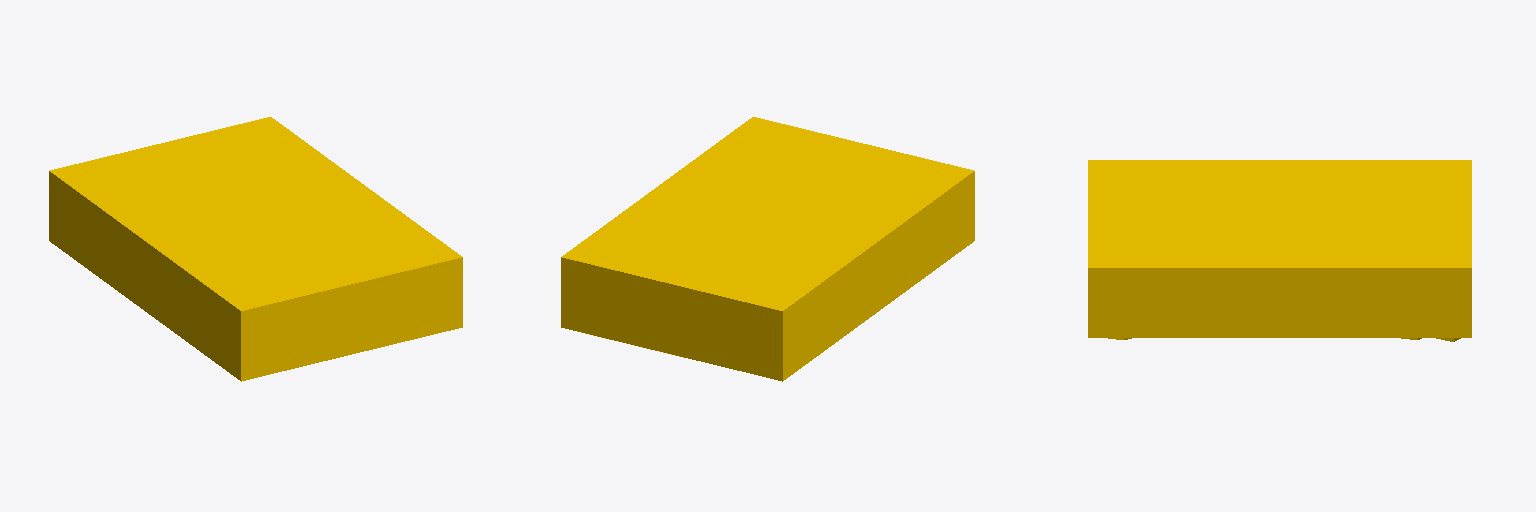
Rendered from mesa_centro_aceite.obj.
3 views of the same model, side by side, from view 1: azimuth 30°, elevation 25°; view 2: azimuth 150°, elevation 25°; view 3: azimuth 270°, elevation 25° (orthographic).
Parts seen in each view (by area): view 1: Cubo.030_Cubo.031; view 2: Cubo.030_Cubo.031; view 3: Cubo.030_Cubo.031.
Boxes of the visible parts, <box> form: Cubo.030_Cubo.031: <box>49,117,462,381</box>; Cubo.030_Cubo.031: <box>561,117,974,381</box>; Cubo.030_Cubo.031: <box>1088,160,1471,341</box>.
Bounding box in the file's own units: 0.7064 × 0.2557 × 1.06.